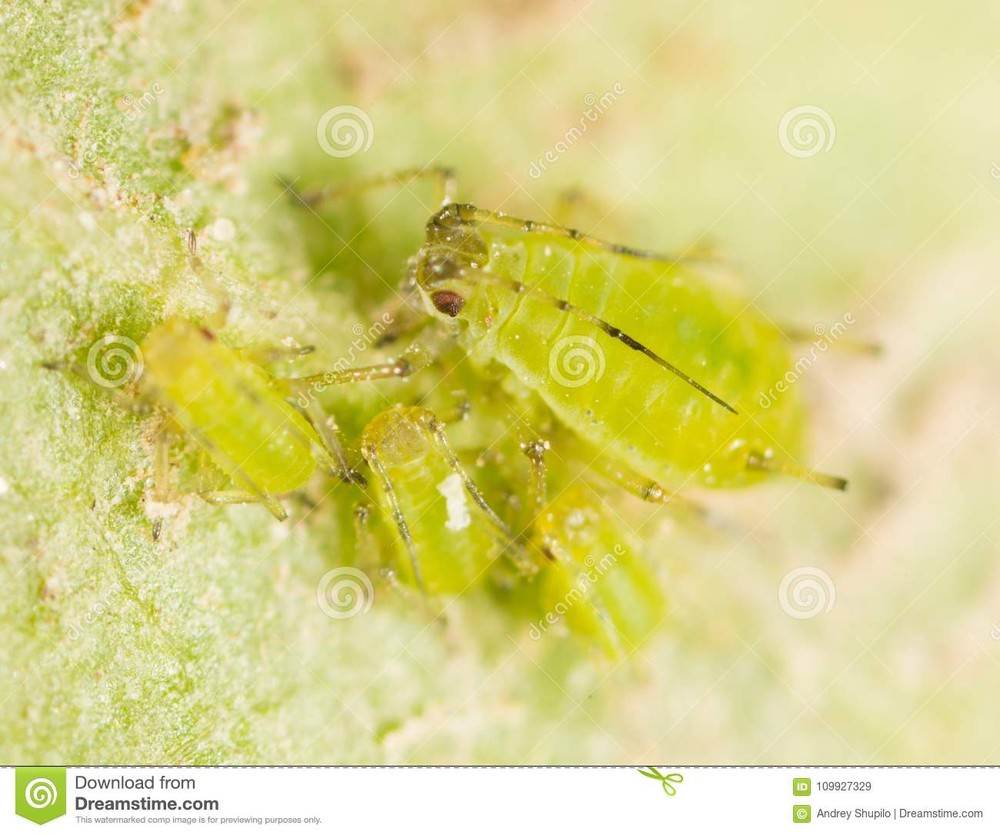Pulgon: (310, 150, 891, 541), (117, 294, 367, 527), (326, 368, 539, 617), (510, 462, 690, 691)
